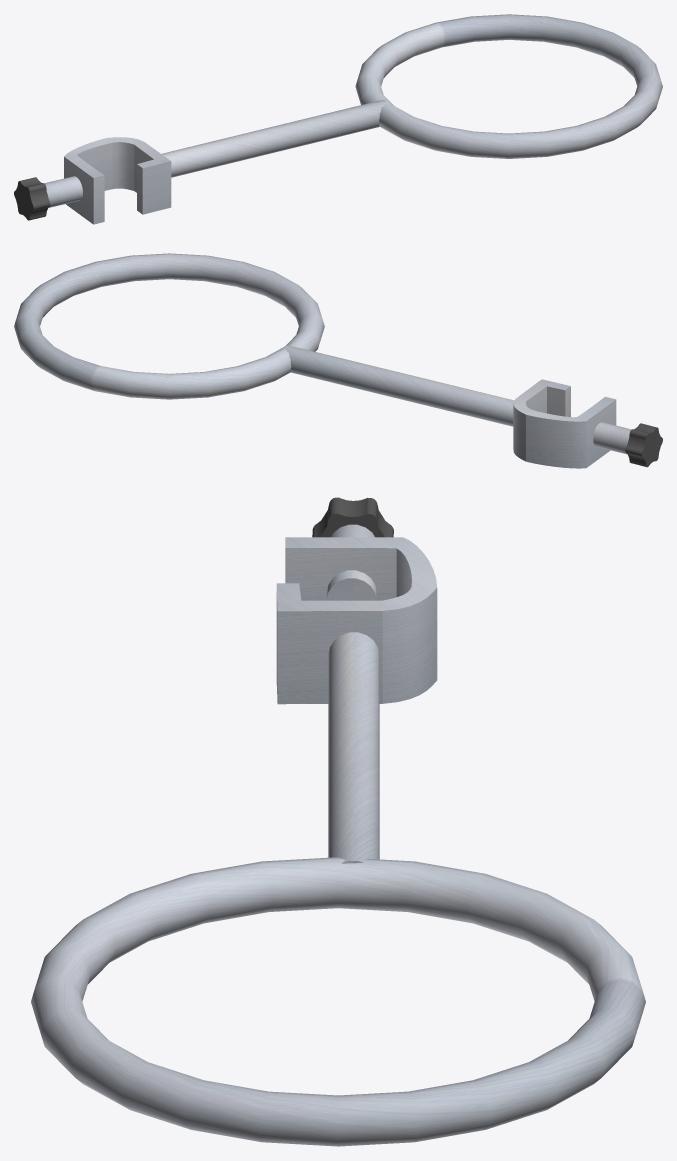
Rendered from zaiju.obj.
3 views of the same model, one above another, from view 1: azimuth 30°, elevation 25°; view 2: azimuth 150°, elevation 25°; view 3: azimuth 270°, elevation 25° (orthographic). The views are drawn at different scales.
Parts seen in each view (by area): view 1: Torus001, Line003, Cylinder002, Star002, Cylinder006; view 2: Torus001, Line003, Cylinder002, Star002, Cylinder006; view 3: Torus001, Line003, Cylinder002, Star002, Cylinder006.
Part boxes in pixels (x1=…): Torus001: x1=355, y1=14, x2=662, y2=158; Line003: x1=64, y1=137, x2=171, y2=224; Cylinder002: x1=161, y1=100, x2=388, y2=177; Star002: x1=14, y1=177, x2=50, y2=220; Cylinder006: x1=44, y1=176, x2=82, y2=207; Torus001: x1=14, y1=253, x2=324, y2=399; Line003: x1=513, y1=379, x2=616, y2=468; Cylinder002: x1=284, y1=345, x2=514, y2=426; Star002: x1=625, y1=423, x2=662, y2=467; Cylinder006: x1=593, y1=422, x2=631, y2=454; Torus001: x1=31, y1=857, x2=645, y2=1146; Line003: x1=276, y1=537, x2=437, y2=704; Cylinder002: x1=328, y1=632, x2=379, y2=863; Star002: x1=312, y1=497, x2=393, y2=537; Cylinder006: x1=326, y1=524, x2=376, y2=600.
Bounding box in the file's own units: 55.42 × 4 × 24.
Materials: 2 (1 with a texture image).
